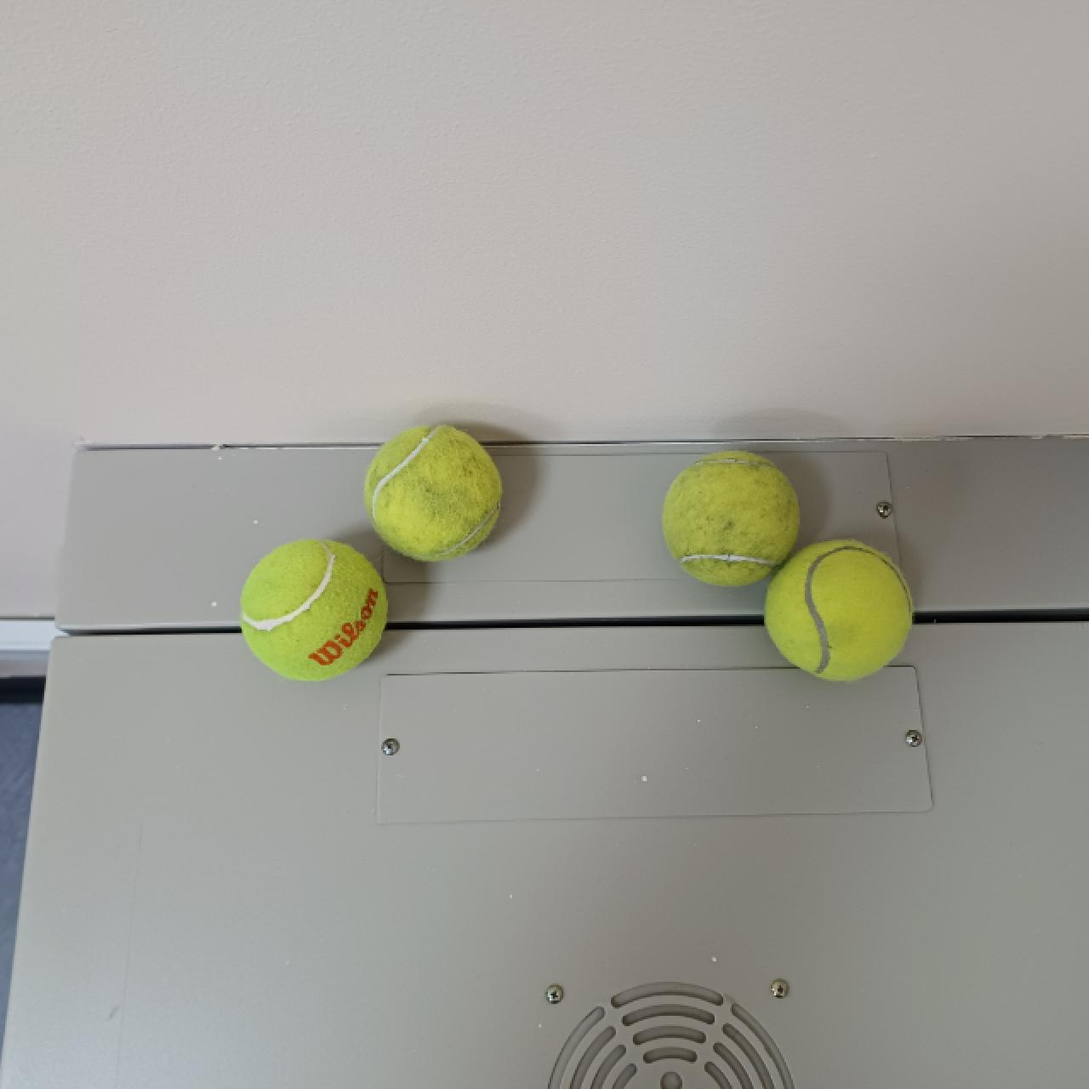tennis-ball: (764, 538, 917, 681), (241, 537, 388, 681), (365, 422, 506, 565), (662, 449, 800, 588)
